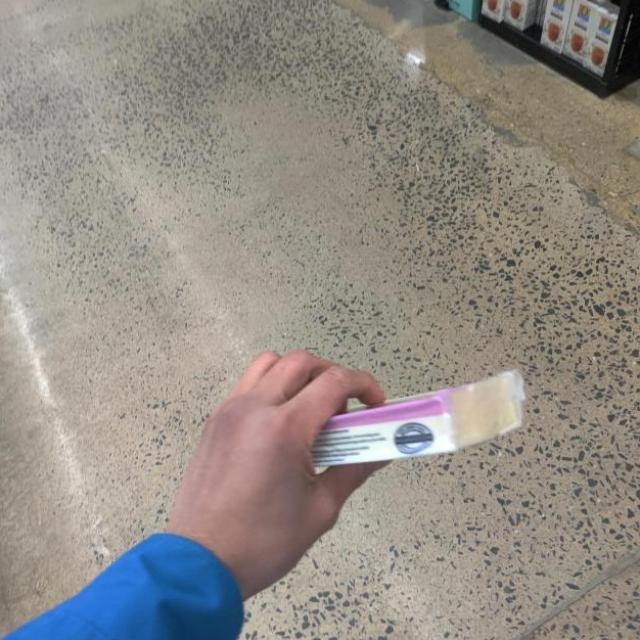Cheese: (310, 367, 531, 467)
